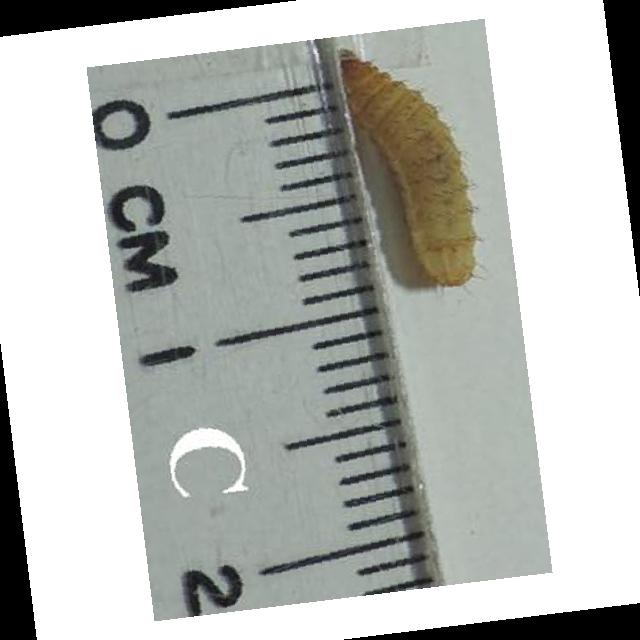Maggot: (334, 46, 483, 286)
